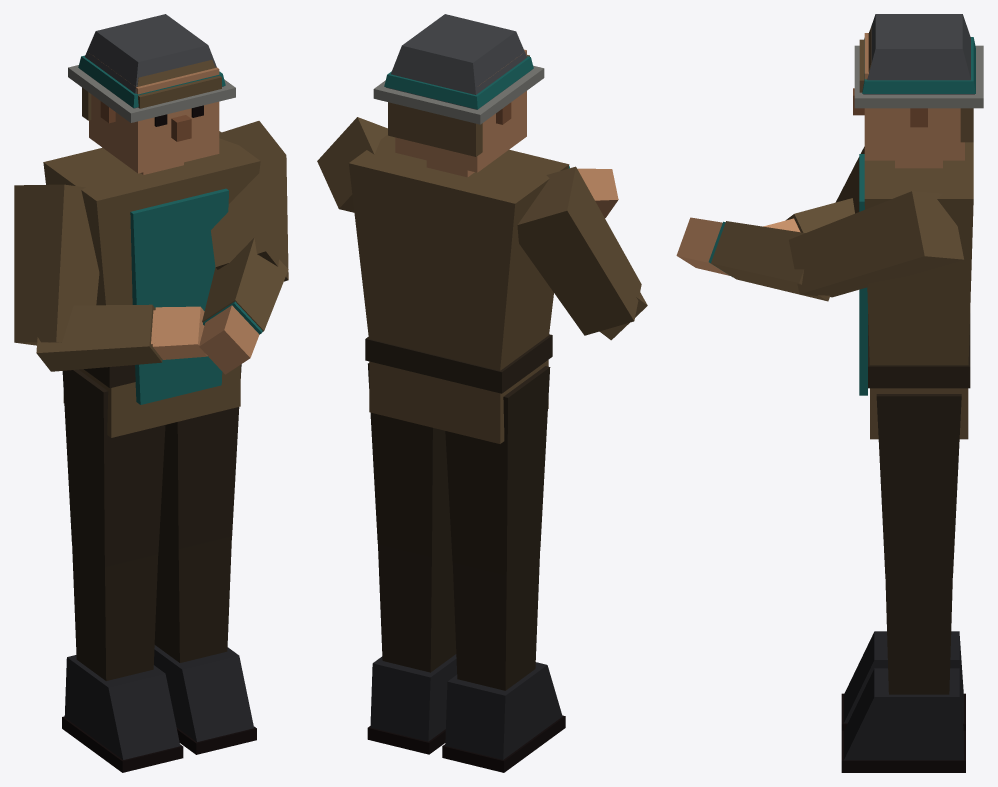
File: grunt_set_militia.glb
3 views of the same model, side by side, from view 1: azimuth 30°, elevation 25°; view 2: azimuth 150°, elevation 25°; view 3: azimuth 270°, elevation 25° (orthographic). The views are drawn at different scales.
Parts seen in each view (by area): view 1: torso, leg_r_lower, head, leg_l_lower, leg_r, arm_r, leg_l, arm_r_lower, arm_l, arm_l_lower, hair; view 2: torso, leg_r_lower, head, leg_l_lower, leg_r, arm_r, leg_l, hair, arm_l, arm_l_lower; view 3: torso, leg_l_lower, head, leg_l, arm_l, arm_l_lower, leg_r_lower, arm_r_lower, hair, arm_r.
Boxes of the visible parts, x1=… form: torso: x1=43, y1=131, x2=260, y2=437; leg_r_lower: x1=62, y1=543, x2=183, y2=772; head: x1=68, y1=14, x2=235, y2=174; leg_l_lower: x1=154, y1=535, x2=256, y2=754; leg_r: x1=62, y1=369, x2=165, y2=567; arm_r: x1=14, y1=184, x2=99, y2=345; leg_l: x1=159, y1=364, x2=241, y2=549; arm_r_lower: x1=36, y1=304, x2=207, y2=371; arm_l: x1=211, y1=121, x2=288, y2=281; arm_l_lower: x1=199, y1=238, x2=288, y2=374; hair: x1=82, y1=60, x2=221, y2=120; torso: x1=348, y1=135, x2=569, y2=443; leg_r_lower: x1=442, y1=551, x2=565, y2=772; head: x1=373, y1=14, x2=544, y2=177; leg_l_lower: x1=367, y1=543, x2=457, y2=754; leg_r: x1=445, y1=366, x2=550, y2=575; arm_r: x1=517, y1=166, x2=641, y2=335; leg_l: x1=368, y1=363, x2=451, y2=556; hair: x1=388, y1=55, x2=529, y2=156; arm_l: x1=317, y1=117, x2=387, y2=212; arm_l_lower: x1=568, y1=165, x2=618, y2=218; torso: x1=859, y1=142, x2=973, y2=439; leg_l_lower: x1=841, y1=577, x2=965, y2=772; head: x1=853, y1=14, x2=983, y2=168; leg_l: x1=876, y1=394, x2=961, y2=577; arm_l: x1=789, y1=191, x2=963, y2=297; arm_l_lower: x1=676, y1=217, x2=829, y2=301; leg_r_lower: x1=841, y1=631, x2=965, y2=730; arm_r_lower: x1=763, y1=198, x2=854, y2=232; hair: x1=859, y1=27, x2=973, y2=142; arm_r: x1=835, y1=146, x2=864, y2=213.
Bounding box in the file's own units: 0.7929 × 1.79 × 0.7037.
